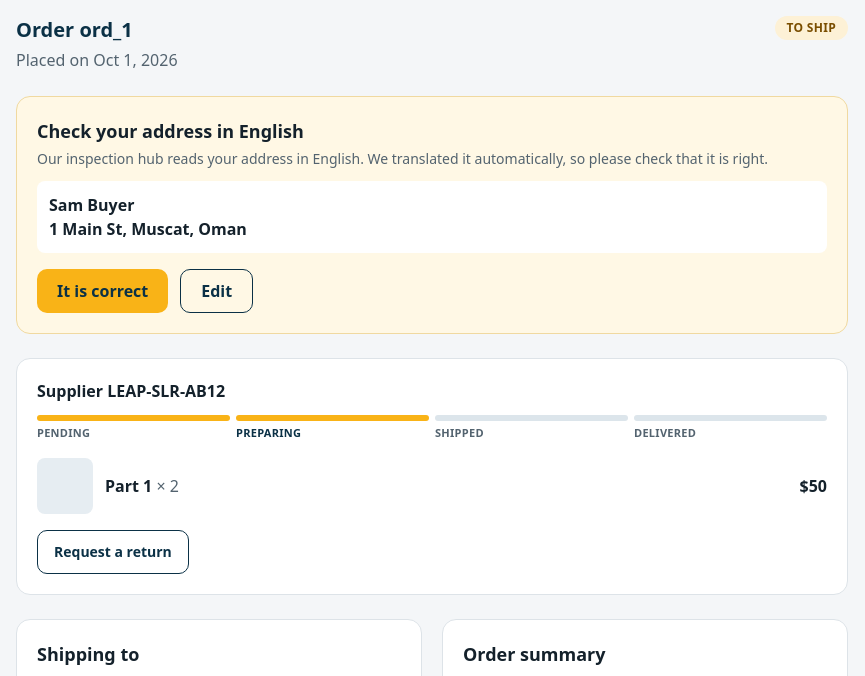
Scenario: order detail: returns, address, receipt, reorder › CRITICAL: while the English address is only a guess the buyer is asked to check it: 'It is correct' confirms it as it is
Check: the heading "Order ord_1" is shown, box x1=16 y1=16 x2=133 y2=43
Check: the heading "Check your address in English" is shown, box x1=37 y1=119 x2=304 y2=143
Click the button "It is correct". click: x=103, y=291
box: x1=37 y1=269 x2=168 y2=313
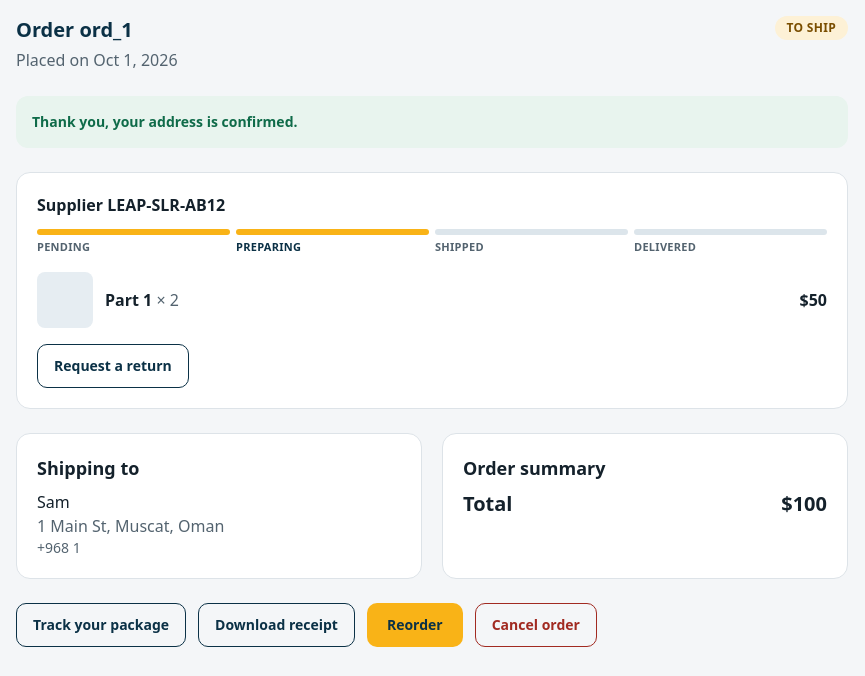
Check: the text "Thank you, your address is confirmed." is shown, box x1=16 y1=96 x2=848 y2=148
